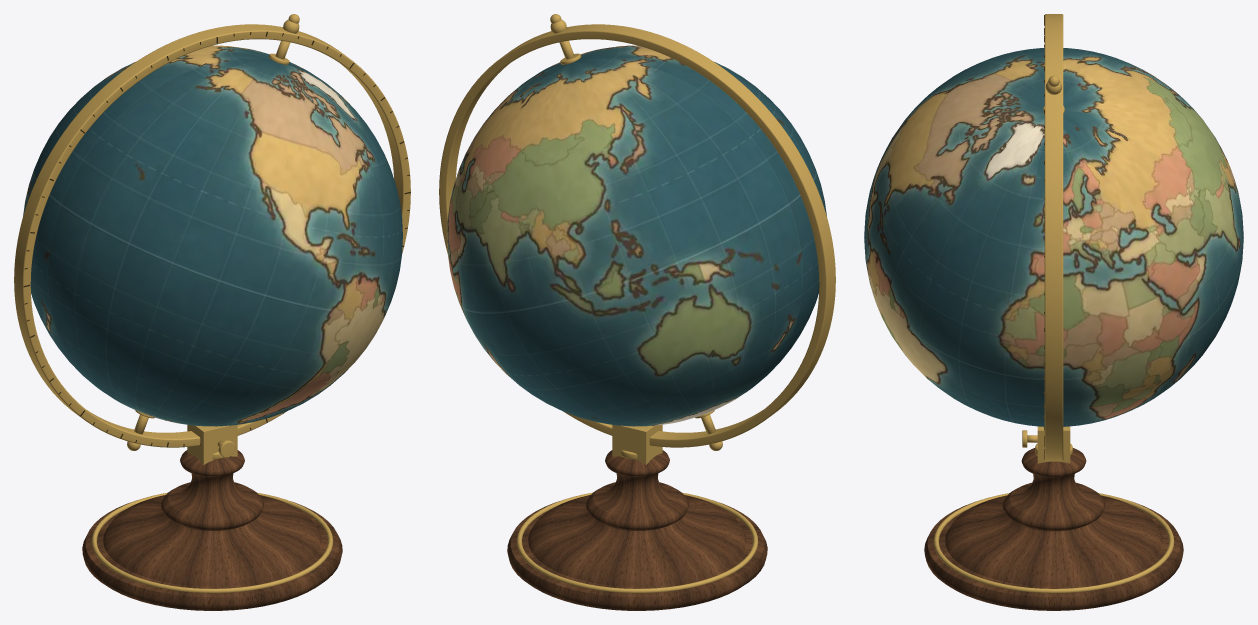
The model's file is globe.glb.
The picture shows the model from 3 angles, left to right: view 1: azimuth 30°, elevation 25°; view 2: azimuth 150°, elevation 25°; view 3: azimuth 270°, elevation 25°; orthographic projection.
Parts seen in each view (by area): view 1: globe_ball, globe_stand, globe_brass; view 2: globe_ball, globe_stand, globe_brass; view 3: globe_ball, globe_stand, globe_brass.
Part boxes in pixels (x1,y1,x2,y2): globe_ball: (23,45,402,426); globe_stand: (82,450,342,610); globe_brass: (14,14,410,593); globe_ball: (447,45,826,426); globe_stand: (507,450,767,610); globe_brass: (439,14,835,593); globe_ball: (864,48,1243,426); globe_stand: (924,448,1183,610); globe_brass: (933,14,1174,593).
Size of the model in its own units: 0.706 by 0.913 by 0.6.
Materials: 4 (2 with a texture image).
